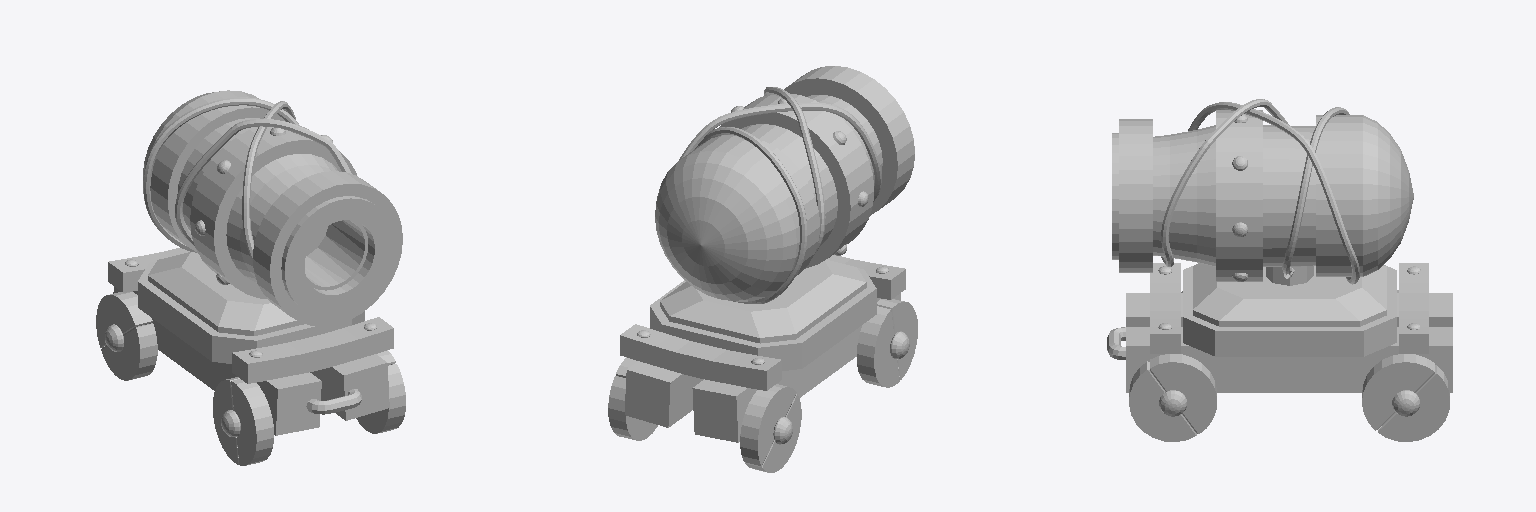
Rendered from cannon_2.obj.
3 renders of one model, left to right at view 1: azimuth 30°, elevation 25°; view 2: azimuth 150°, elevation 25°; view 3: azimuth 270°, elevation 25°, orthographic.
Visible parts, largest first — view 1: canhao.001_low_Cylinder, canhao.004_low_Cube.001, canhao.008_low.002_Sphere.005, canhao.008_low.001_Sphere.004, canhao.008_low.003_Sphere.006; view 2: canhao.001_low_Cylinder, canhao.004_low_Cube.001, canhao.008_low.001_Sphere.004, canhao.008_low.002_Sphere.005, canhao.008_low_Sphere; view 3: canhao.001_low_Cylinder, canhao.004_low_Cube.001, canhao.008_low.003_Sphere.006, canhao.008_low_Sphere.
Boxes of the visible parts, box(x1,y1,x2,y2) form: canhao.001_low_Cylinder: box(143, 90, 402, 326); canhao.004_low_Cube.001: box(108, 248, 393, 435); canhao.008_low.002_Sphere.005: box(213, 377, 273, 465); canhao.008_low.001_Sphere.004: box(96, 292, 157, 380); canhao.008_low.003_Sphere.006: box(356, 350, 405, 433); canhao.001_low_Cylinder: box(655, 66, 914, 303); canhao.004_low_Cube.001: box(620, 255, 905, 442); canhao.008_low.001_Sphere.004: box(740, 384, 801, 472); canhao.008_low.002_Sphere.005: box(857, 299, 917, 387); canhao.008_low_Sphere: box(608, 357, 657, 440); canhao.001_low_Cylinder: box(1112, 99, 1413, 284); canhao.004_low_Cube.001: box(1107, 263, 1452, 392); canhao.008_low.003_Sphere.006: box(1129, 354, 1216, 441); canhao.008_low_Sphere: box(1362, 354, 1449, 441).
Size of the model in its own units: 2.36 by 3.94 by 4.12.